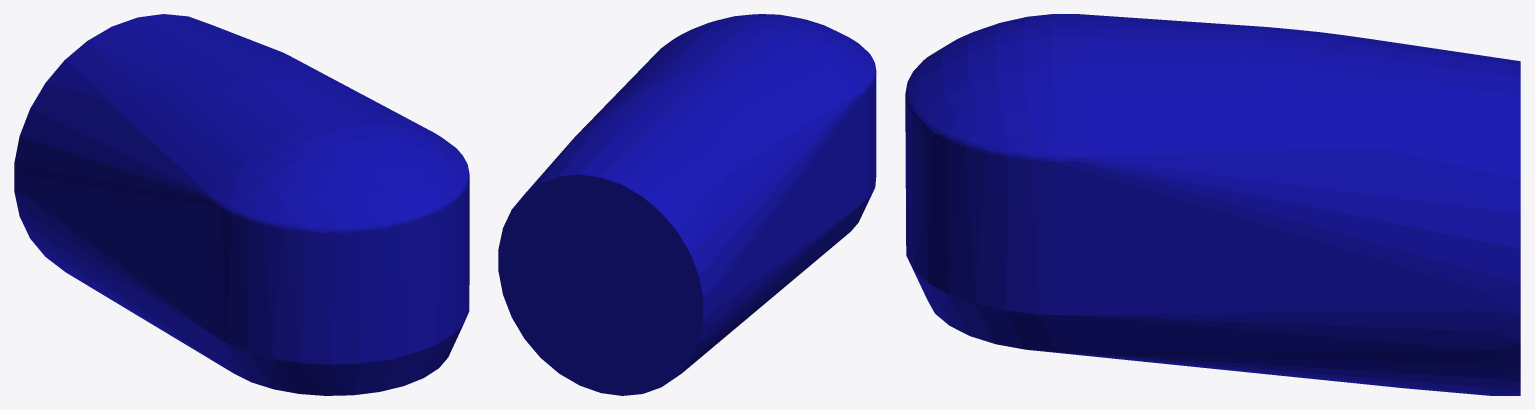
Rendered from MOTOMAN_AXIS_R_COLLISION.dae.
3 renders of one model, left to right at view 1: azimuth 30°, elevation 25°; view 2: azimuth 150°, elevation 25°; view 3: azimuth 270°, elevation 25°, orthographic. The views are drawn at different scales.
Parts seen in each view (by area): view 1: node; view 2: node; view 3: node.
Boxes of the visible parts, bbox=[...] form: node: bbox=[14, 14, 469, 395]; node: bbox=[498, 14, 876, 395]; node: bbox=[905, 14, 1520, 395].
Size of the model in its own units: 0.1328 by 0.1508 by 0.2445.
